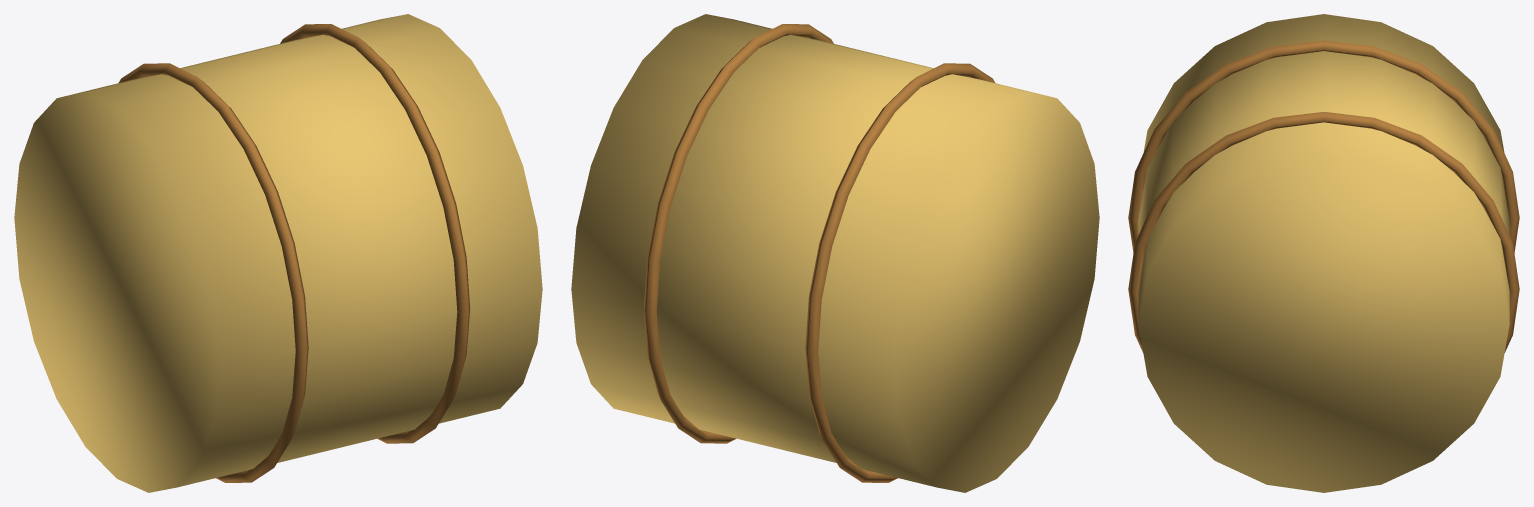
The model's file is haybale.glb.
The picture shows the model from 3 angles, left to right: view 1: azimuth 30°, elevation 25°; view 2: azimuth 150°, elevation 25°; view 3: azimuth 270°, elevation 25°; orthographic projection. The views are drawn at different scales.
Parts seen in each view (by area): view 1: haybale; view 2: haybale; view 3: haybale.
Boxes of the visible parts, x1,y1,x2,y2 form: haybale: (14, 14, 542, 492); haybale: (571, 14, 1099, 492); haybale: (1128, 14, 1519, 492).
Bounding box in the file's own units: 1 × 1.16 × 1.16.
